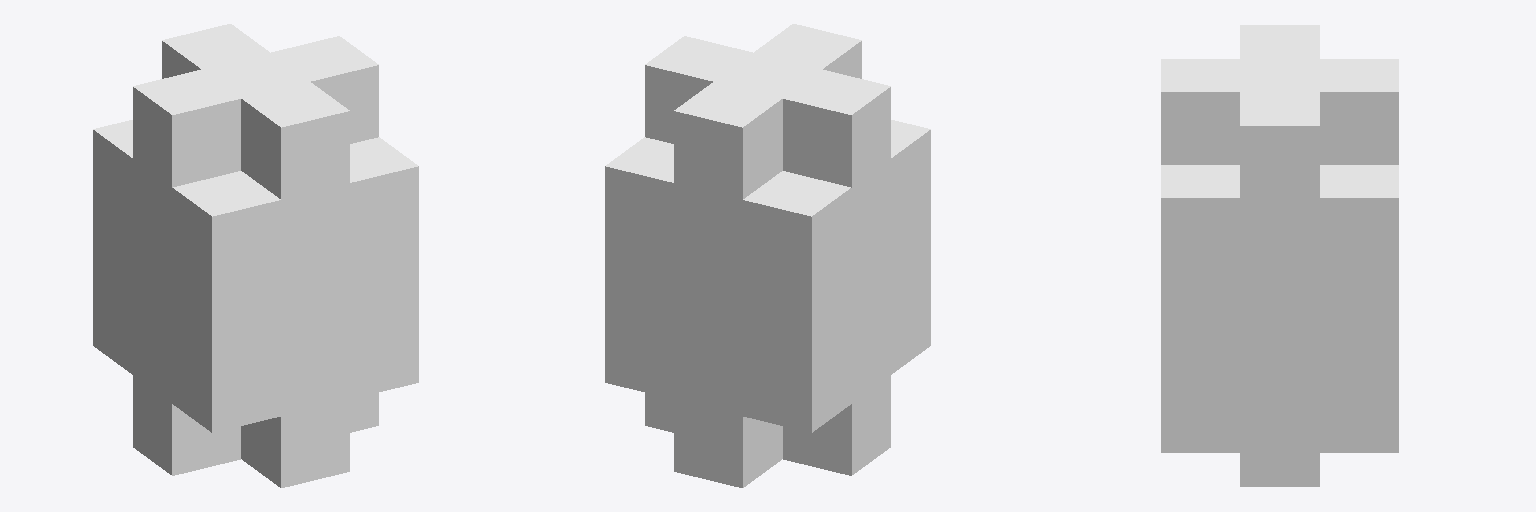
The model's file is Lantern-0.obj.
3 renders of one model, left to right at view 1: azimuth 30°, elevation 25°; view 2: azimuth 150°, elevation 25°; view 3: azimuth 270°, elevation 25°, orthographic.
Visible parts, largest first — view 1: object 1; view 2: object 1; view 3: object 1.
Part boxes in pixels (left/top/right/bottom): object 1: left=93, top=24, right=418, bottom=487; object 1: left=605, top=24, right=930, bottom=487; object 1: left=1161, top=25, right=1398, bottom=486.
Size of the model in its own units: 0.3 by 0.5 by 0.3.